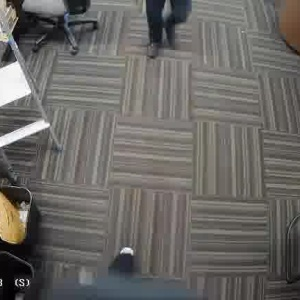person: (134, 0, 200, 59)
